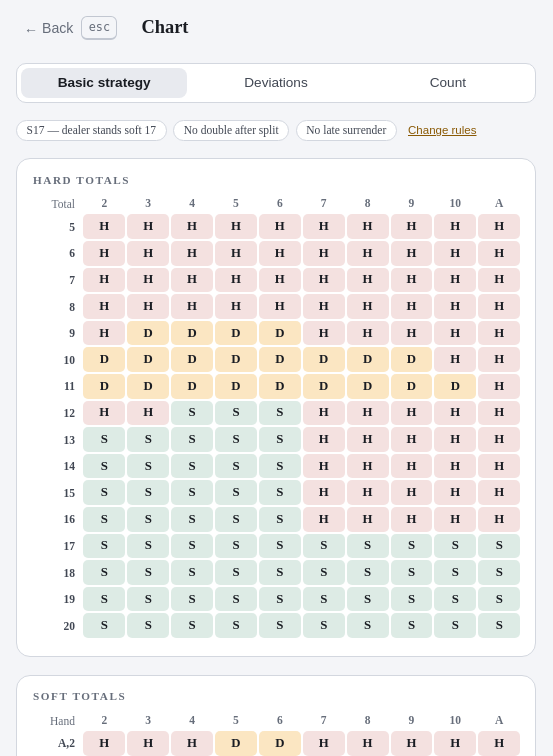
Scenario: ChartPageComponent › the deviation list › opens on the basic chart and switches to the deviations on demand
The image size is (553, 756).
Click the button with class "chart__mode" showing "Deviations" at (276, 83), box [193,68,359,98]
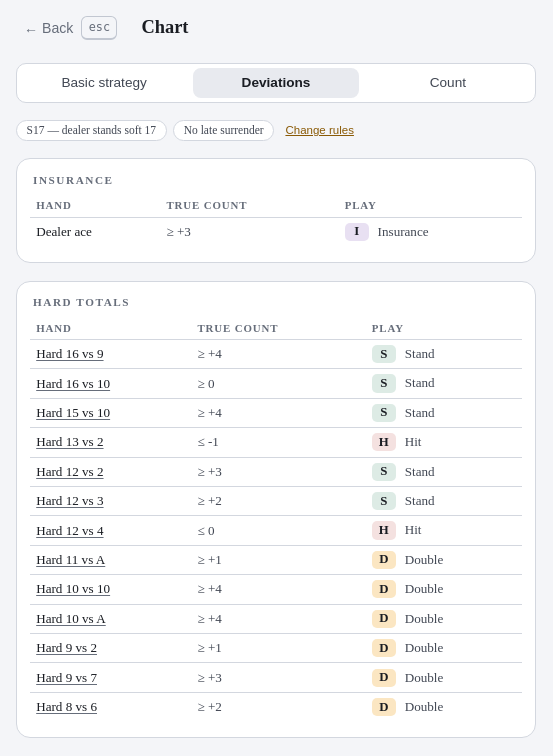
Check: the table with class "chart__table" that starts with "Insurance" is shown, box [30,174,522,246]
Check: the number of elements with class "chart__cell--h" is 2, box [372,433,396,452]; [372,522,396,540]
